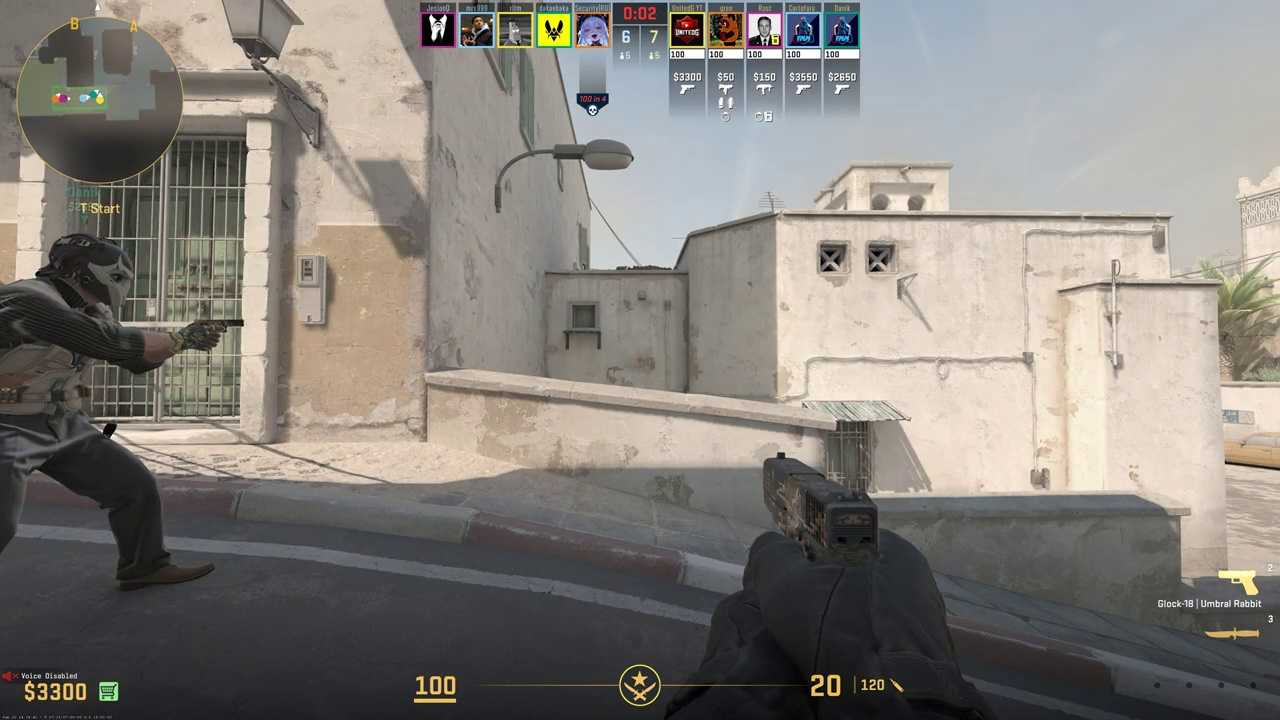Terrorist: (5, 232, 197, 594)
